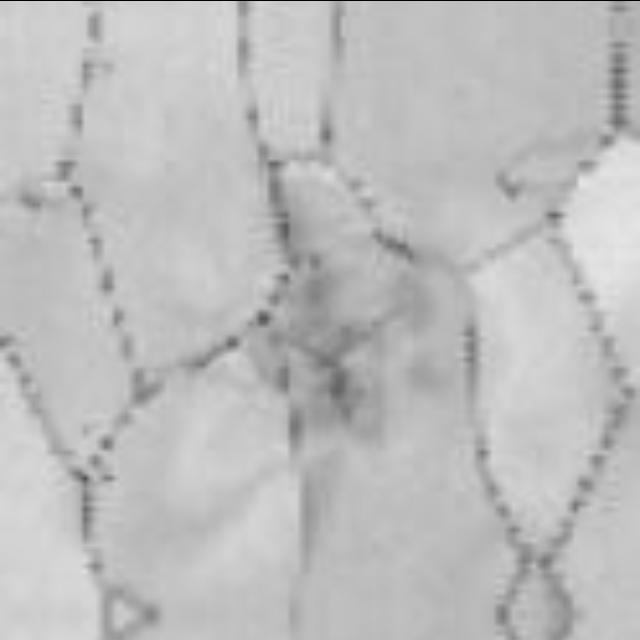good_void: (274, 260, 373, 429)
